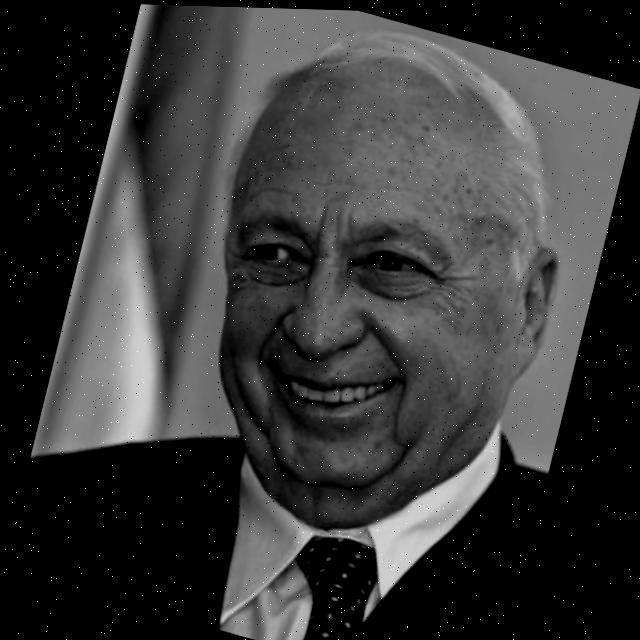face: (168, 32, 590, 576)
